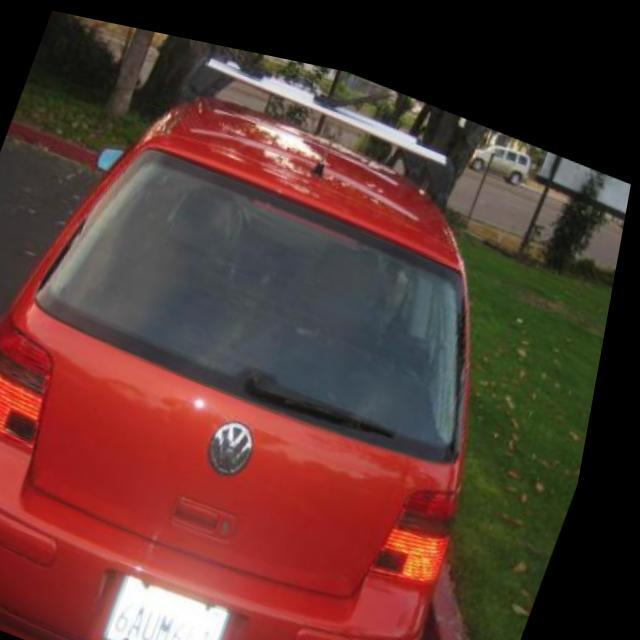license_plate: (120, 558, 255, 640)
